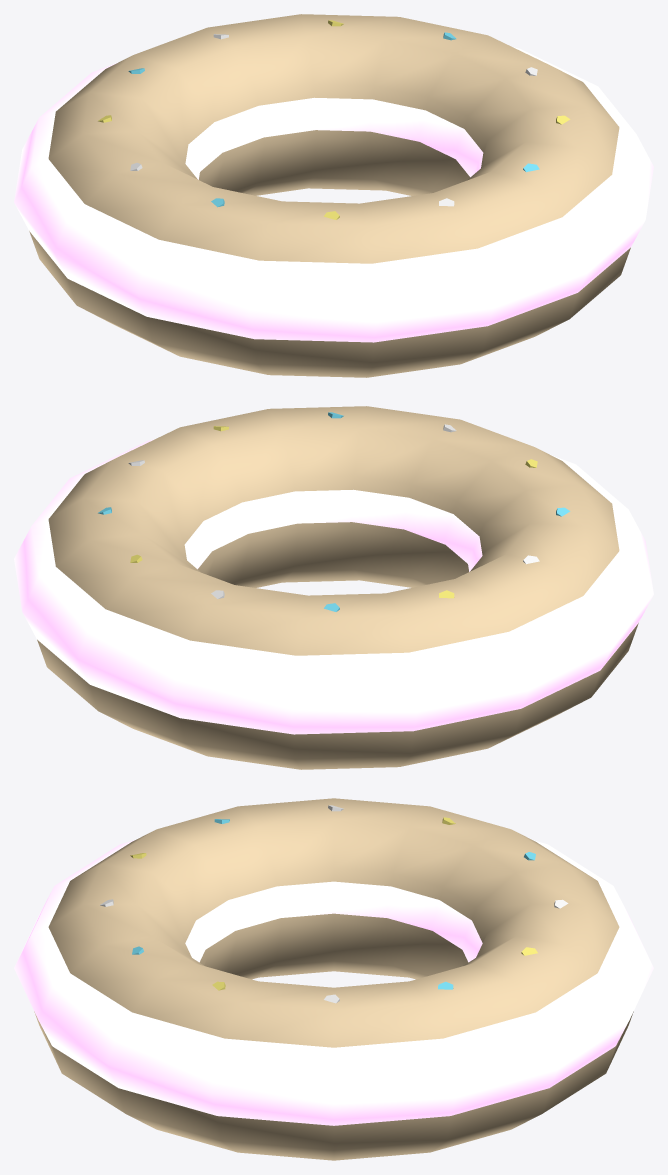
Rendered from saw_hazard.glb.
3 views of the same model, one above another, from view 1: azimuth 30°, elevation 25°; view 2: azimuth 150°, elevation 25°; view 3: azimuth 270°, elevation 25° (orthographic).
Parts seen in each view (by area): view 1: Torus, Torus.001; view 2: Torus, Torus.001; view 3: Torus, Torus.001.
Part boxes in pixels (bbox=[...]): Torus: bbox=[29, 14, 630, 377]; Torus.001: bbox=[14, 47, 653, 342]; Torus: bbox=[37, 406, 638, 769]; Torus.001: bbox=[14, 439, 653, 734]; Torus: bbox=[34, 798, 633, 1160]; Torus.001: bbox=[14, 840, 653, 1125].
Bounding box in the file's own units: 2.57 × 0.6813 × 2.57.
